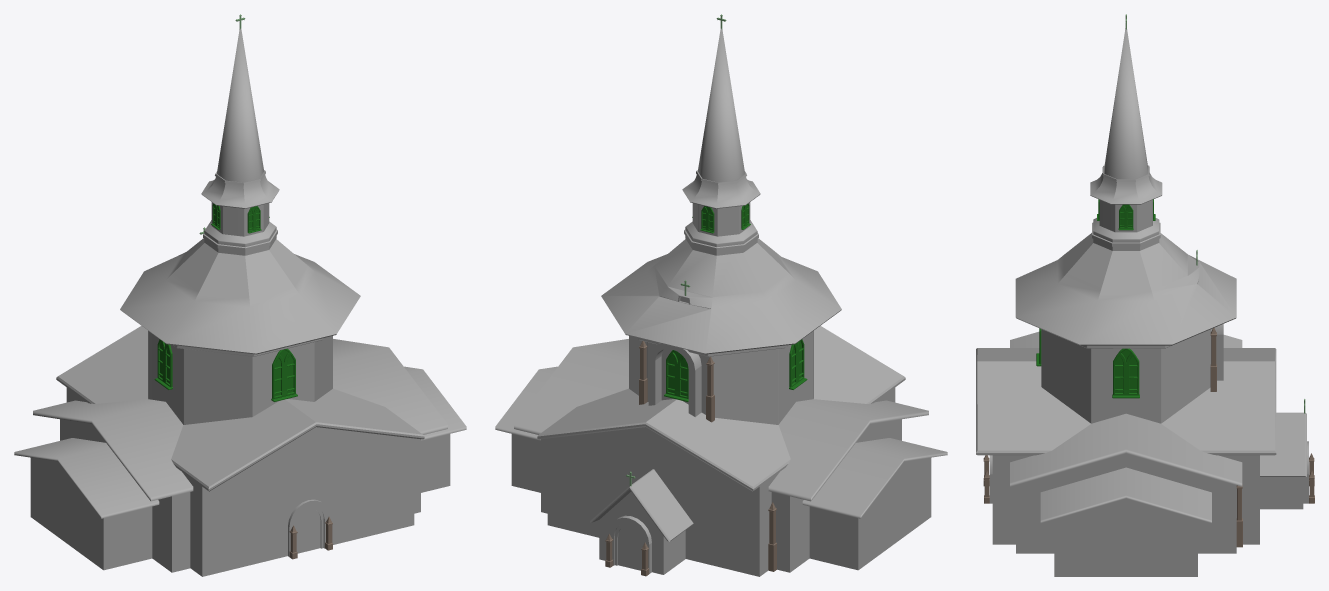
Rendered from Monastary.fbx.
3 views of the same model, side by side, from view 1: azimuth 30°, elevation 25°; view 2: azimuth 150°, elevation 25°; view 3: azimuth 270°, elevation 25° (orthographic).
Visible parts, largest first — view 1: Front_BIg_Abbey, Upper_Abbey, Side_BIg_Abbey, Side_Small_Abbey, Main_tower, Curch_window1 (×2), arch; view 2: Front_BIg_Abbey, Upper_Abbey, Side_BIg_Abbey, Side_Small_Abbey, Main_tower, Entrance, arch2, Curch_window1 (×2), door, arch; view 3: Upper_Abbey, Front_BIg_Abbey, Side_Small_Abbey, Side_BIg_Abbey, Main_tower, Entrance, Curch_window1, pPlane1, arch2.
Boxes of the visible parts, box(x1,y1,x2,y2) form: Front_BIg_Abbey: box(56, 326, 424, 576); Upper_Abbey: box(120, 238, 360, 424); Side_BIg_Abbey: box(33, 339, 447, 572); Side_Small_Abbey: box(14, 366, 466, 570); Main_tower: box(201, 28, 279, 255); Curch_window1 (×2): box(154, 339, 297, 401); arch: box(288, 499, 330, 556); Front_BIg_Abbey: box(537, 326, 905, 576); Upper_Abbey: box(601, 238, 841, 424); Side_BIg_Abbey: box(514, 339, 928, 572); Side_Small_Abbey: box(495, 366, 947, 570); Main_tower: box(682, 28, 760, 255); Entrance: box(590, 469, 693, 574); arch2: box(648, 343, 701, 416); Curch_window1 (×2): box(664, 339, 807, 401); door: box(618, 526, 641, 570); arch: box(608, 515, 651, 573); Upper_Abbey: box(1015, 233, 1236, 423); Front_BIg_Abbey: box(976, 348, 1276, 544); Side_Small_Abbey: box(1040, 467, 1211, 576); Side_BIg_Abbey: box(1010, 331, 1242, 553); Main_tower: box(1090, 28, 1162, 250); Entrance: box(1260, 412, 1306, 509); Curch_window1: box(1112, 348, 1139, 398); pPlane1: box(1115, 349, 1137, 392); arch2: box(1211, 324, 1223, 380).
Bounding box in the file's own units: 65.36 × 83.35 × 53.35.
